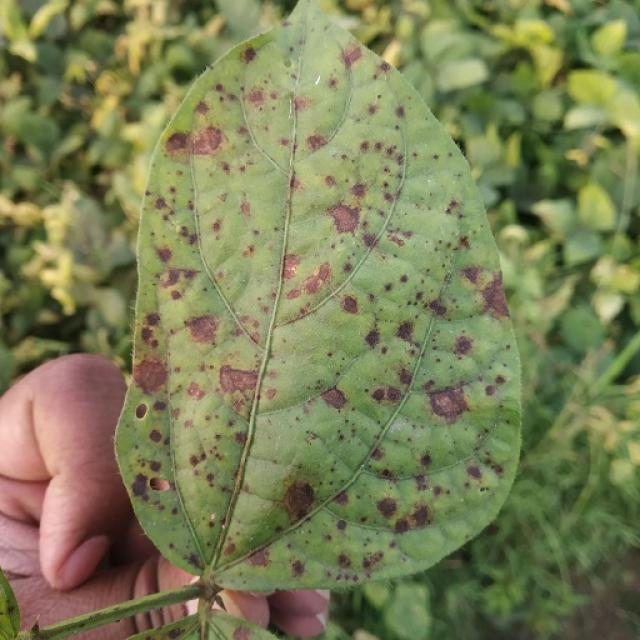Anthracnose: (471, 270, 510, 317), (134, 356, 177, 393), (282, 479, 317, 521), (427, 387, 469, 421), (218, 364, 259, 398), (298, 261, 334, 297), (324, 201, 361, 234), (183, 314, 220, 346), (189, 124, 225, 156), (160, 266, 201, 288), (164, 130, 192, 156), (319, 387, 348, 411), (370, 385, 402, 405), (281, 253, 304, 279), (406, 504, 430, 528), (375, 497, 399, 520), (341, 43, 364, 67), (130, 474, 150, 498), (395, 320, 416, 342), (305, 133, 328, 153), (452, 334, 473, 355), (247, 548, 270, 566), (153, 244, 174, 263), (246, 87, 265, 107), (363, 327, 381, 348), (341, 294, 359, 314), (186, 381, 204, 399), (349, 181, 367, 198), (361, 233, 379, 248), (242, 45, 257, 63), (290, 560, 305, 577), (135, 402, 149, 420), (148, 429, 164, 444), (466, 464, 482, 479), (336, 553, 351, 569), (186, 553, 201, 569), (240, 200, 251, 217), (420, 453, 432, 467), (484, 384, 497, 396), (335, 519, 348, 531), (166, 632, 183, 640), (212, 221, 221, 232), (283, 58, 291, 67)
Blackgram: (115, 2, 520, 588)
